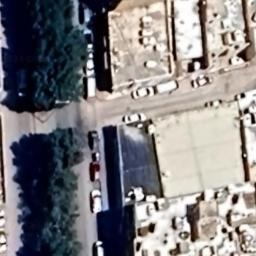SUV: (89, 188, 106, 214), (92, 235, 106, 256), (0, 228, 10, 254)
sedan: (120, 109, 150, 125), (81, 27, 96, 53), (131, 86, 156, 101), (83, 51, 97, 77), (189, 74, 214, 88), (86, 128, 100, 150), (203, 96, 226, 108)
unknown: (75, 2, 92, 24), (87, 159, 102, 183)
van: (154, 78, 180, 96), (85, 74, 100, 102)
